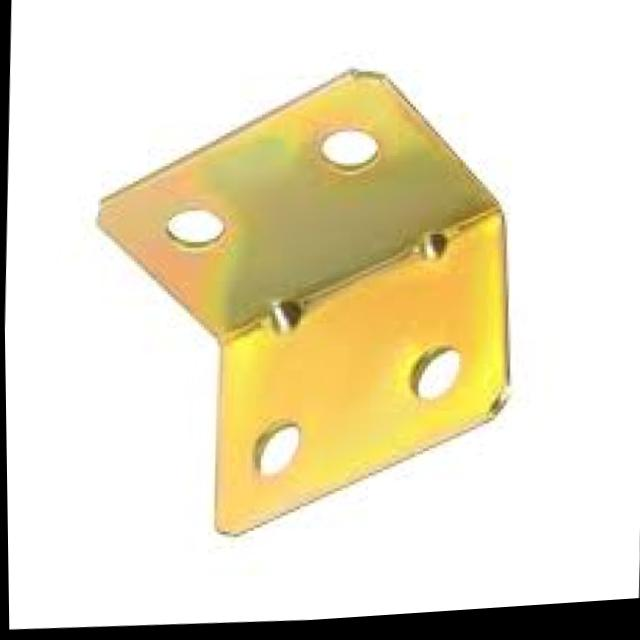holes: (253, 427, 302, 482), (411, 354, 460, 408), (320, 133, 380, 177), (167, 210, 228, 253)
